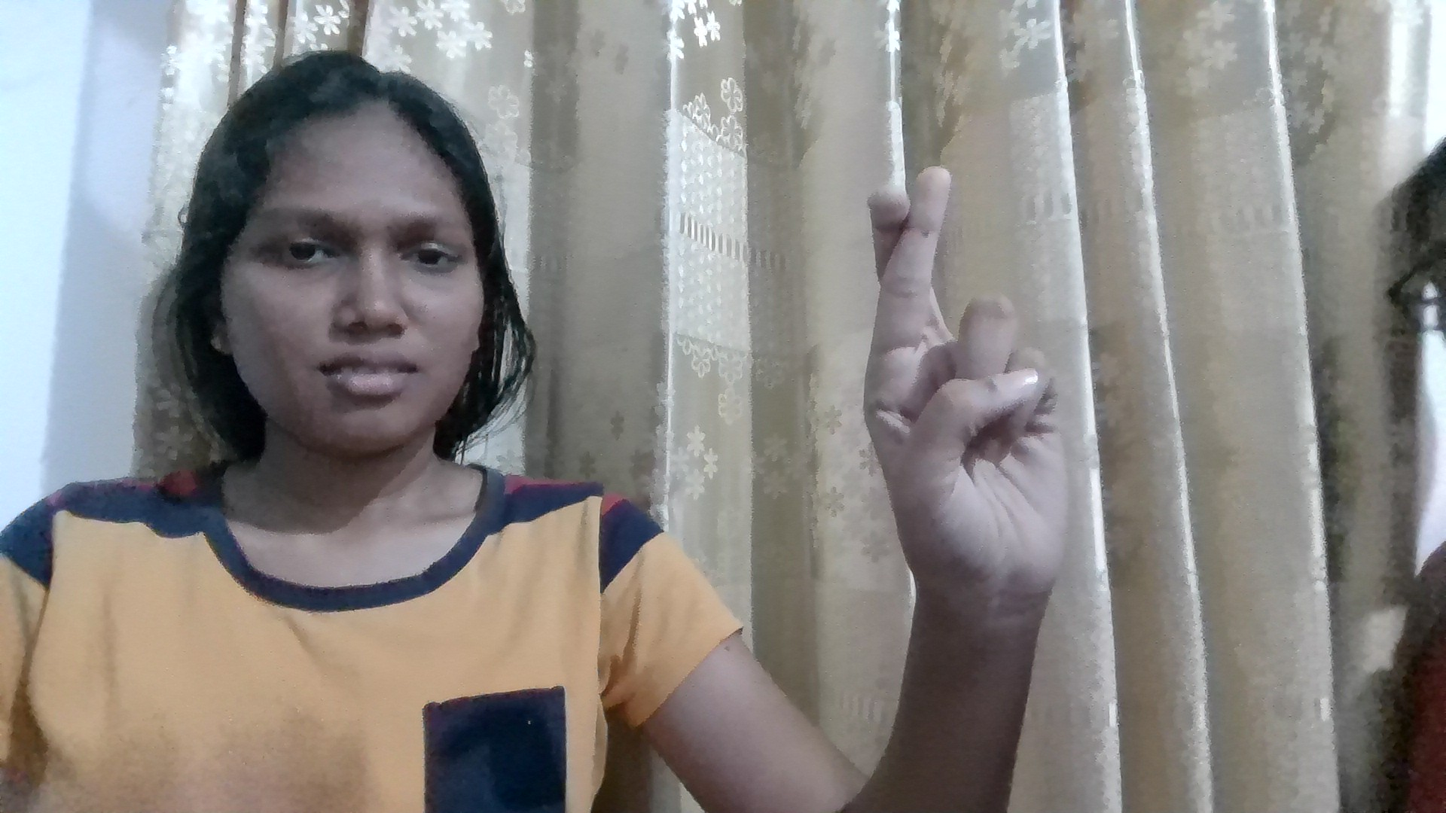Good_Luck: (847, 160, 1128, 715)
